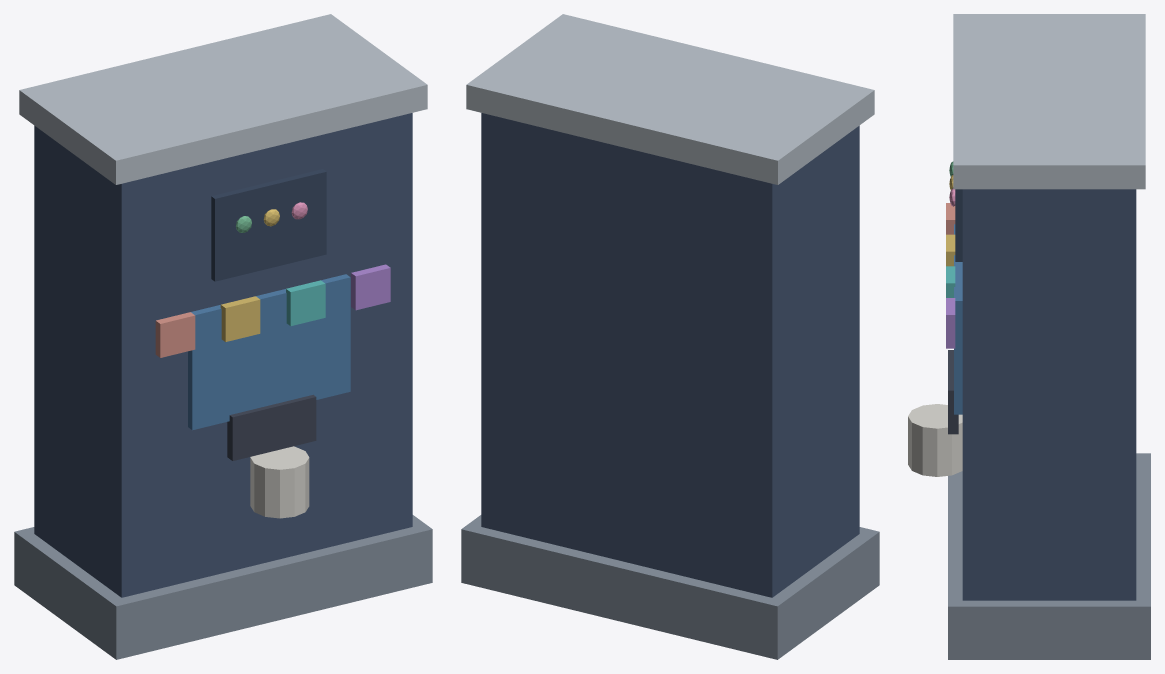
The model's file is social_cafe_station_v3.glb.
3 views of the same model, side by side, from view 1: azimuth 30°, elevation 25°; view 2: azimuth 150°, elevation 25°; view 3: azimuth 270°, elevation 25° (orthographic).
Parts seen in each view (by area): view 1: station_body, station_top, base, dispense_panel, screen, cup_slot, coffee_cup, product_0, product_1, product_2, product_3; view 2: station_body, station_top, base; view 3: station_body, station_top, base, coffee_cup, dispense_panel, cup_slot, screen, product_3.
Boxes of the visible parts, x1=… form: station_body: x1=34, y1=113, x2=412, y2=597; station_top: x1=19, y1=14, x2=427, y2=184; base: x1=14, y1=515, x2=432, y2=659; dispense_panel: x1=188, y1=274, x2=350, y2=430; screen: x1=211, y1=169, x2=326, y2=281; cup_slot: x1=227, y1=394, x2=316, y2=460; coffee_cup: x1=250, y1=446, x2=309, y2=518; product_0: x1=155, y1=312, x2=195, y2=357; product_1: x1=220, y1=296, x2=260, y2=341; product_2: x1=286, y1=280, x2=325, y2=326; product_3: x1=351, y1=264, x2=390, y2=310; station_body: x1=481, y1=113, x2=859, y2=597; station_top: x1=466, y1=14, x2=874, y2=184; base: x1=461, y1=515, x2=879, y2=659; station_body: x1=962, y1=189, x2=1136, y2=600; station_top: x1=953, y1=14, x2=1145, y2=189; base: x1=948, y1=453, x2=1150, y2=659; coffee_cup: x1=908, y1=404, x2=962, y2=476; dispense_panel: x1=954, y1=224, x2=962, y2=414; cup_slot: x1=948, y1=350, x2=958, y2=434; screen: x1=955, y1=189, x2=962, y2=261; product_3: x1=946, y1=298, x2=955, y2=348.
Size of the model in its own units: 1.36 by 2.04 by 0.91.
